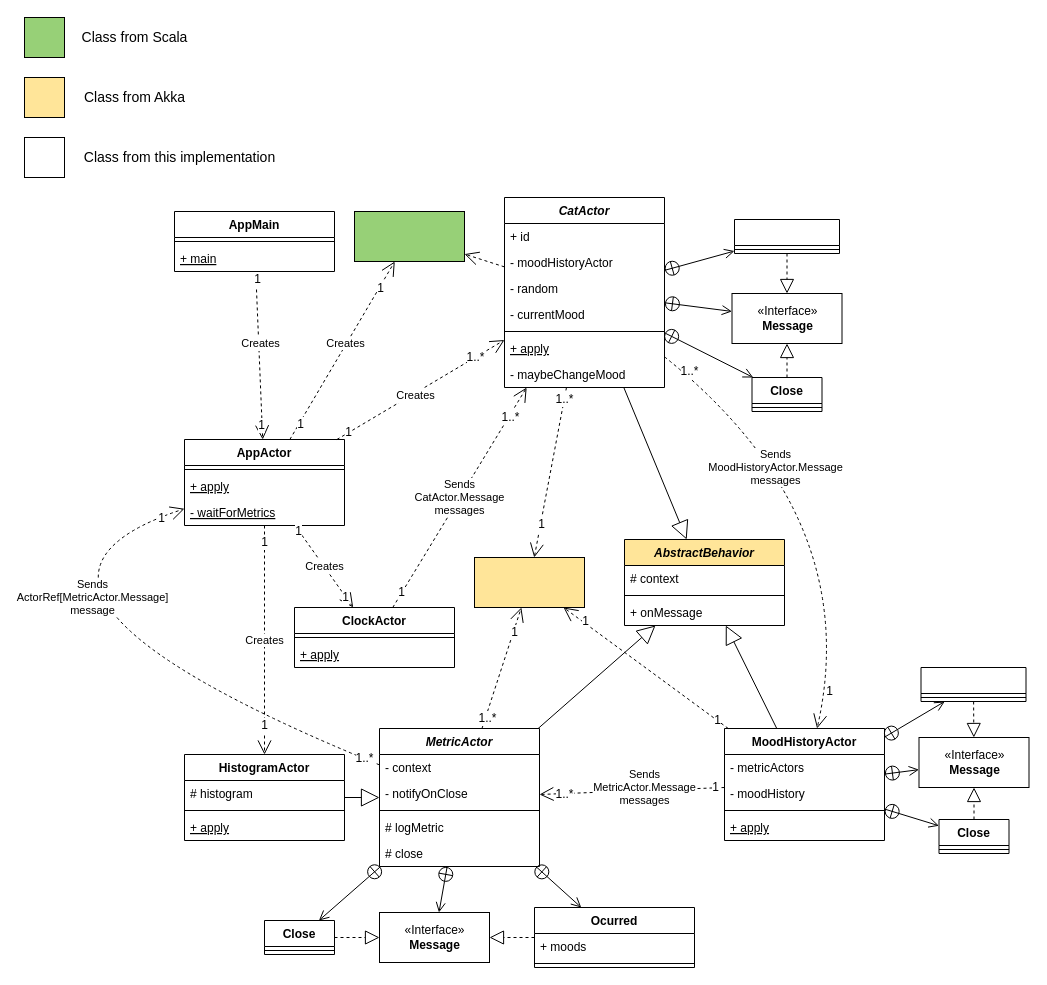
Some shapes in this 1047 by 985 pixel diagram are drawn without their labels. Here are the shapes that lost their labels. From the top down, the centre of each, then its label:
At pixel 409 236: "Random".
At pixel 787 236: "ChangeMood".
At pixel 529 582: "ActorContext".
At pixel 973 684: "MoodChange".
